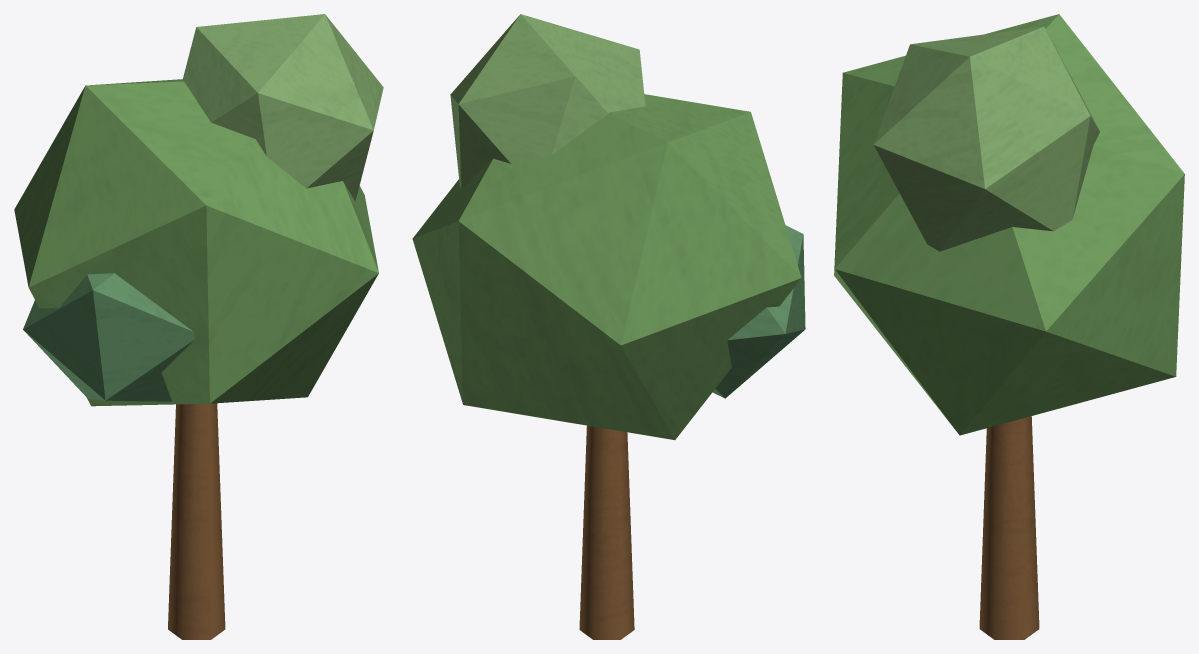
The model's file is tree.glb.
The picture shows the model from 3 angles, left to right: view 1: azimuth 30°, elevation 25°; view 2: azimuth 150°, elevation 25°; view 3: azimuth 270°, elevation 25°; orthographic projection. The views are drawn at different scales.
Parts seen in each view (by area): view 1: tree; view 2: tree; view 3: tree.
Part boxes in pixels (box(x1,y1,x2,y2)): tree: box(14, 14, 383, 639); tree: box(412, 14, 805, 639); tree: box(834, 14, 1184, 639).
Size of the model in its own units: 2.23 by 3.46 by 1.75.
Materials: 4 (4 with a texture image).
